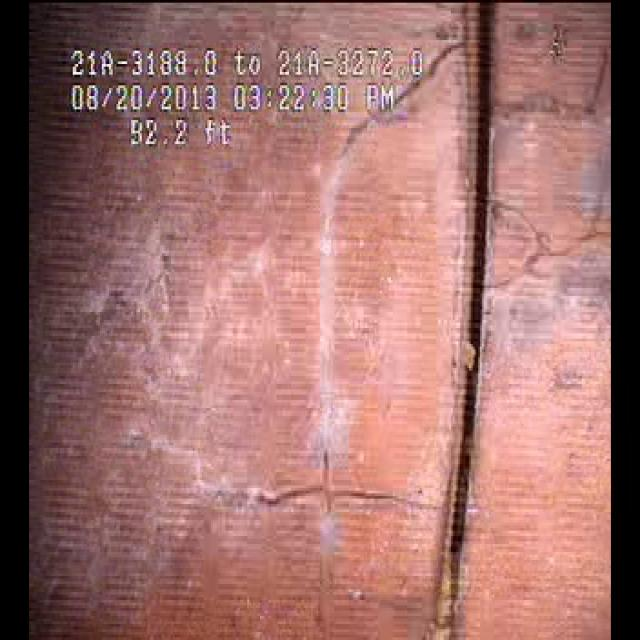Crack: (248, 457, 444, 539)
